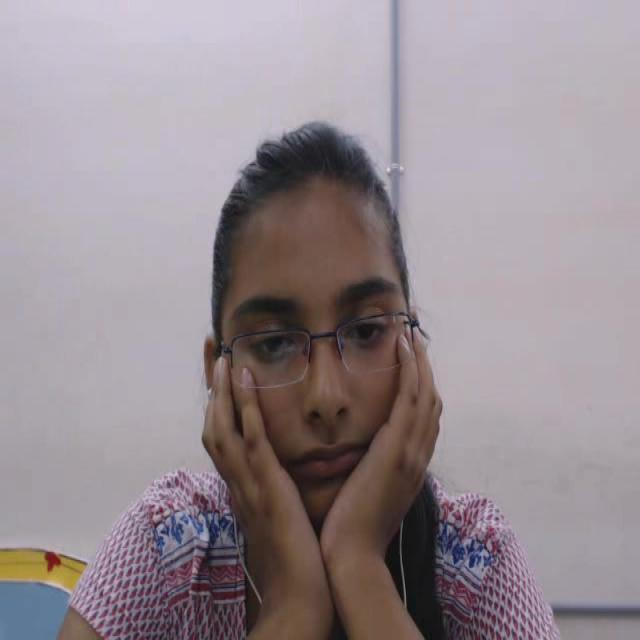Bored: (205, 104, 465, 534)
